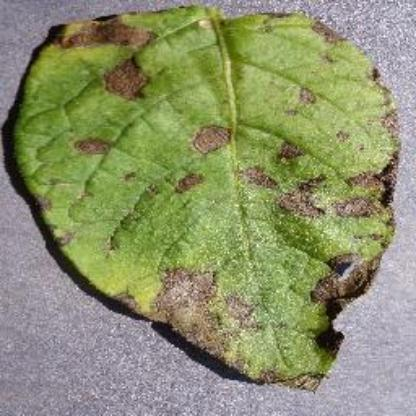Early-Blight: (11, 5, 399, 389)
